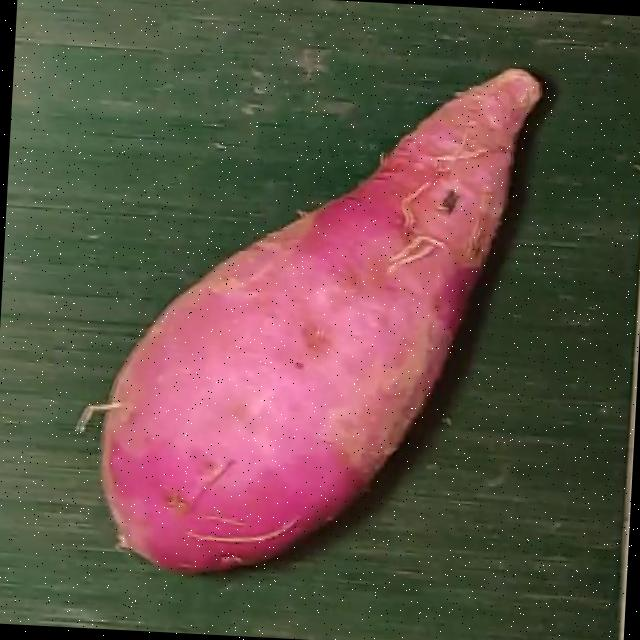Sweet Potato: (76, 66, 547, 575)
